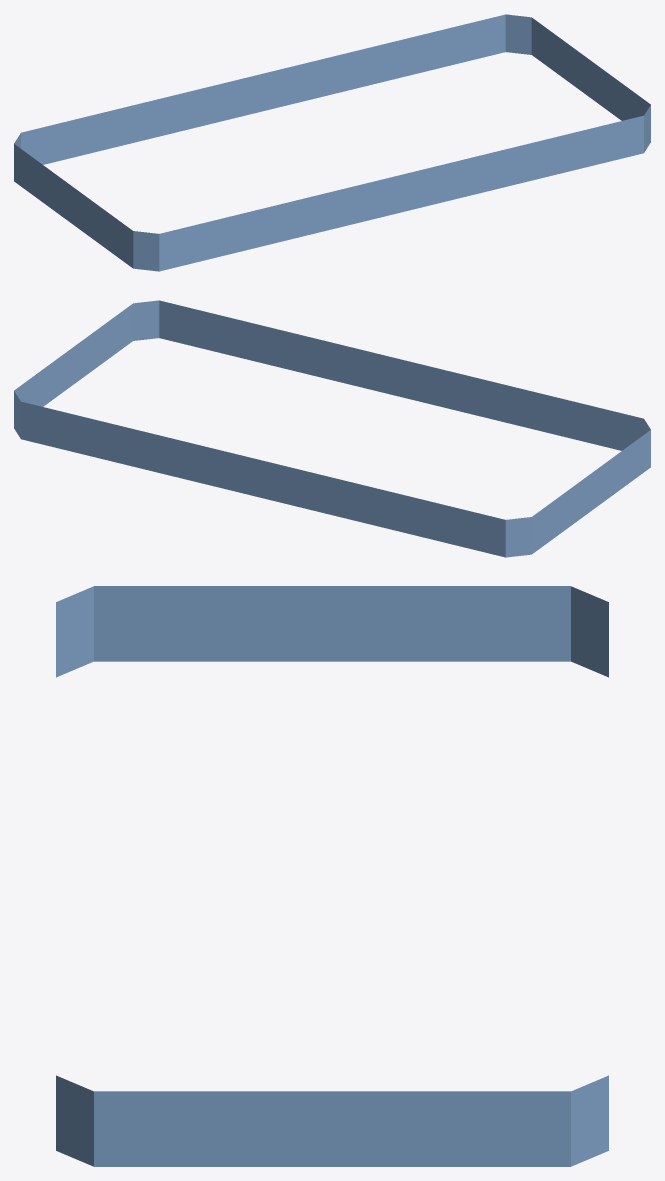
The model's file is terrain_glow.FBX.
3 renders of one model, top to bottom at view 1: azimuth 30°, elevation 25°; view 2: azimuth 150°, elevation 25°; view 3: azimuth 270°, elevation 25°, orthographic. The views are drawn at different scales.
Visible parts, largest first — view 1: Box009; view 2: Box009; view 3: Box009.
Part boxes in pixels (left/top/right/bottom): Box009: left=14, top=14, right=650, bottom=271; Box009: left=14, top=300, right=650, bottom=557; Box009: left=56, top=586, right=608, bottom=1166.
Bounding box in the file's own units: 139 × 64.46 × 9.7.
